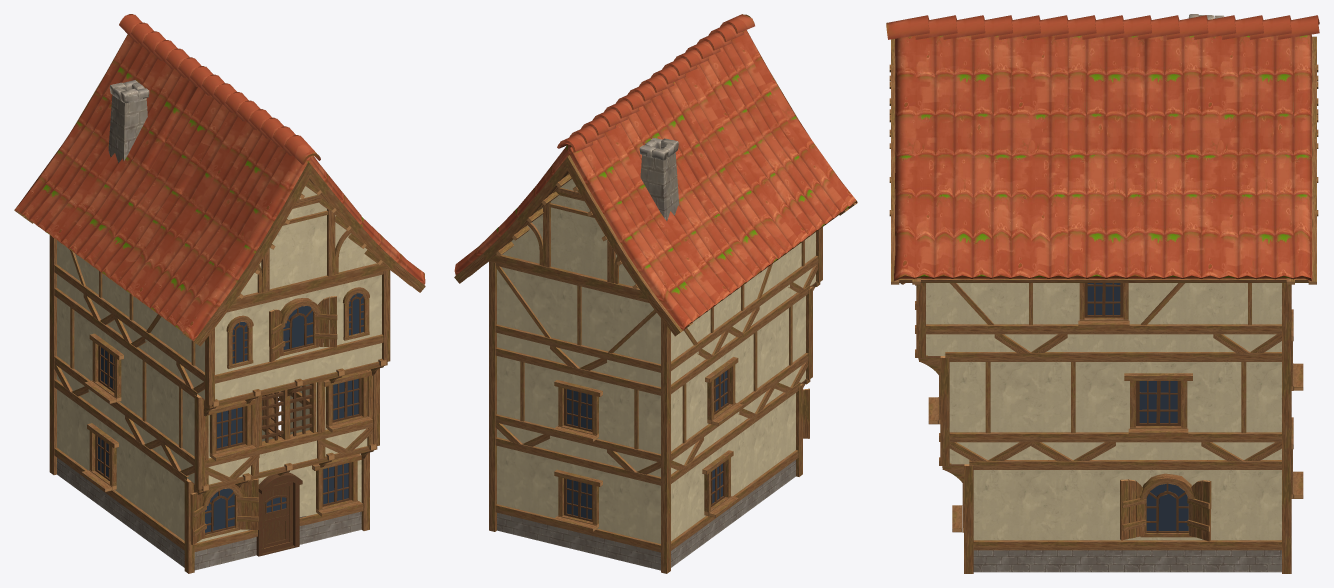
The model's file is townhouse_jettied.glb.
3 views of the same model, side by side, from view 1: azimuth 30°, elevation 25°; view 2: azimuth 150°, elevation 25°; view 3: azimuth 270°, elevation 25° (orthographic). The views are drawn at different scales.
Parts seen in each view (by area): view 1: Roof_RoundTiles_6x10.094, Roof_Front_Brick6.095, Wall_Plaster_WoodGrid+upper.039, Wall_Plaster_Window_Thin_Round+upper.069, Wall_Plaster_Straight+upper.049, Wall_Plaster_Window_Thin_Round+upper.074, Wall_Plaster_Straight+upper.046, Wall_Plaster_Straight_Base.016, Wall_Plaster_Straight+upper.050, Wall_Plaster_Straight_Base.013, Wall_Plaster_Straight_Base.017, Prop_Chimney.097 (+36 smaller); view 2: Roof_RoundTiles_6x10.094, Roof_Front_Brick6.096, Wall_Plaster_Straight_Base.009, Wall_Plaster_Straight+upper.042, Wall_Plaster_Straight_Base.012, Wall_Plaster_Straight+upper.077, Wall_Plaster_Straight+upper.045, Wall_Plaster_Straight_L+upper.076, Wall_Plaster_Straight_R+upper.078, Wall_Plaster_Window_Wide_Flat.010, Wall_Plaster_Straight+upper.049, Wall_Plaster_Straight+upper.050 (+25 smaller); view 3: Roof_RoundTiles_6x10.094, Wall_Plaster_Straight+upper.052, Wall_Plaster_Straight+upper.051, Wall_Plaster_Straight+upper.055, Wall_Plaster_Straight_Base.018, Wall_Plaster_Straight_Base.019, Wall_Plaster_Straight_Base.023, Wall_Plaster_Window_Wide_Flat+upper.053, Wall_Plaster_Straight+upper.085, Wall_Plaster_Straight_R+upper.088, Wall_Plaster_Straight_L+upper.084, Wall_Plaster_Straight+upper.089 (+12 smaller).
Part boxes in pixels (x1,y1,x2,y2): Roof_RoundTiles_6x10.094: [14, 14, 425, 346]; Roof_Front_Brick6.095: [229, 181, 390, 308]; Wall_Plaster_WoodGrid+upper.039: [259, 382, 317, 472]; Wall_Plaster_Window_Thin_Round+upper.069: [215, 299, 269, 400]; Wall_Plaster_Straight+upper.049: [124, 340, 163, 456]; Wall_Plaster_Window_Thin_Round+upper.074: [326, 271, 383, 373]; Wall_Plaster_Straight+upper.046: [54, 287, 91, 403]; Wall_Plaster_Straight_Base.016: [119, 427, 155, 546]; Wall_Plaster_Straight+upper.050: [160, 365, 197, 483]; Wall_Plaster_Straight_Base.013: [54, 379, 88, 497]; Wall_Plaster_Straight_Base.017: [153, 452, 189, 567]; Prop_Chimney.097: [108, 80, 149, 163]; Roof_RoundTiles_6x10.094: [454, 14, 857, 336]; Roof_Front_Brick6.096: [489, 174, 646, 299]; Wall_Plaster_Straight_Base.009: [495, 437, 551, 543]; Wall_Plaster_Straight+upper.042: [495, 347, 551, 450]; Wall_Plaster_Straight_Base.012: [607, 464, 660, 570]; Wall_Plaster_Straight+upper.077: [550, 276, 608, 374]; Wall_Plaster_Straight+upper.045: [607, 374, 660, 476]; Wall_Plaster_Straight_L+upper.076: [495, 263, 551, 360]; Wall_Plaster_Straight_R+upper.078: [607, 290, 660, 387]; Wall_Plaster_Window_Wide_Flat.010: [550, 450, 608, 557]; Wall_Plaster_Straight+upper.049: [737, 310, 774, 425]; Wall_Plaster_Straight+upper.050: [772, 285, 810, 399]; Roof_RoundTiles_6x10.094: [886, 15, 1319, 284]; Wall_Plaster_Straight+upper.052: [1030, 352, 1115, 461]; Wall_Plaster_Straight+upper.051: [945, 352, 1030, 464]; Wall_Plaster_Straight+upper.055: [1201, 352, 1281, 461]; Wall_Plaster_Straight_Base.018: [969, 460, 1048, 572]; Wall_Plaster_Straight_Base.019: [1048, 460, 1127, 572]; Wall_Plaster_Straight_Base.023: [1207, 460, 1281, 572]; Wall_Plaster_Window_Wide_Flat+upper.053: [1116, 352, 1201, 459]; Wall_Plaster_Straight+upper.085: [994, 283, 1067, 353]; Wall_Plaster_Straight_R+upper.088: [1140, 283, 1213, 351]; Wall_Plaster_Straight_L+upper.084: [926, 283, 994, 355]; Wall_Plaster_Straight+upper.089: [1213, 283, 1281, 353].
Size of the model in its own units: 8.25 by 14.02 by 10.9.
6 materials, 5 textured.
